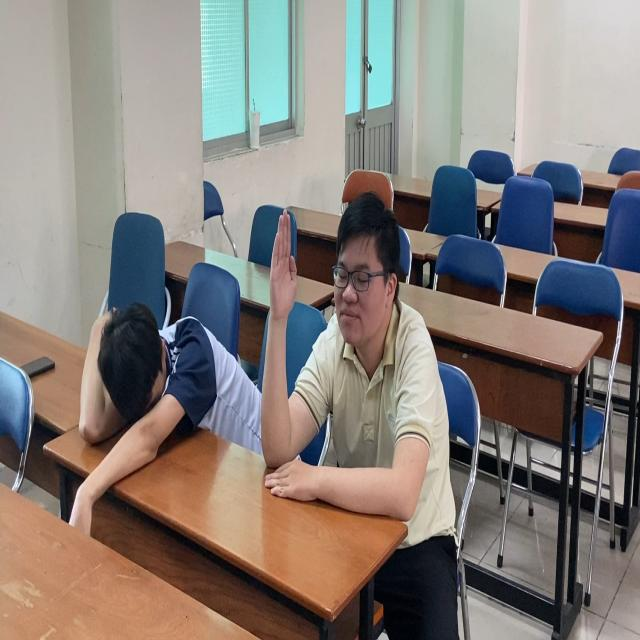raise_hand: (259, 181, 442, 533)
sleep: (69, 295, 263, 505)
